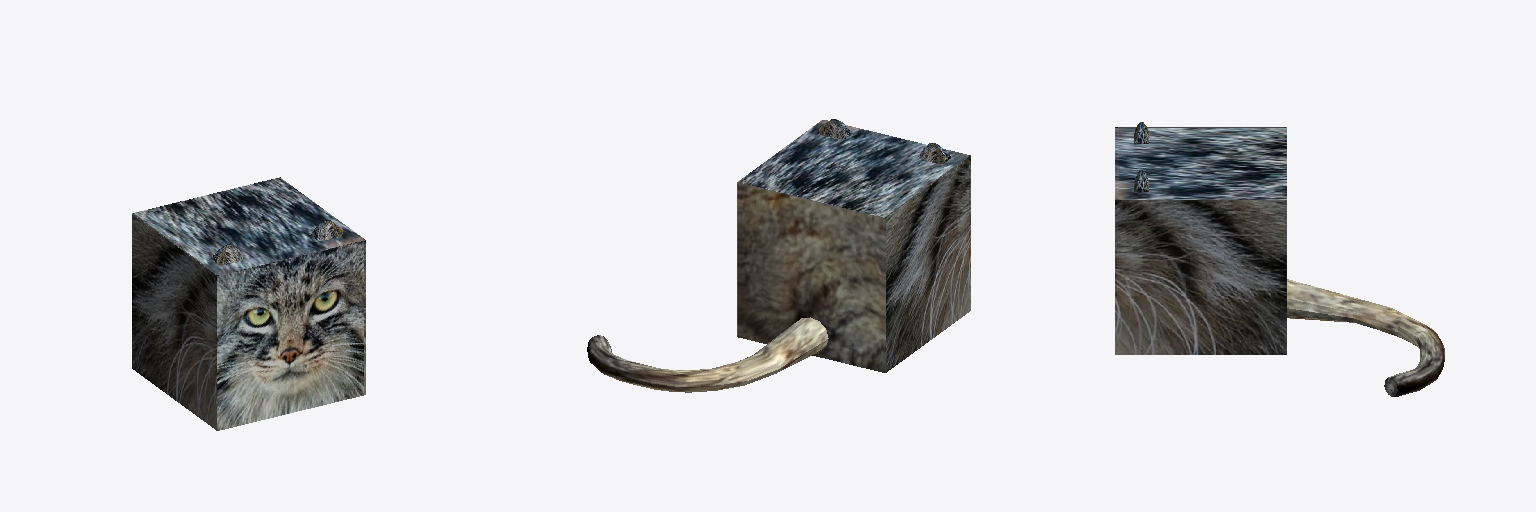
The picture shows the model from 3 angles: view 1: azimuth 30°, elevation 25°; view 2: azimuth 150°, elevation 25°; view 3: azimuth 270°, elevation 25°; orthographic projection.
Parts seen in each view (by area): view 1: manul; view 2: manul, tail; view 3: manul, tail.
Boxes of the visible parts, box(x1,y1,x2,y2) form: manul: box(132, 177, 365, 430); manul: box(737, 120, 970, 372); tail: box(587, 317, 828, 392); manul: box(1115, 127, 1286, 354); tail: box(1287, 279, 1444, 396).
Size of the model in its own units: 32.6 by 22.03 by 38.46.
1 materials, 1 textured.